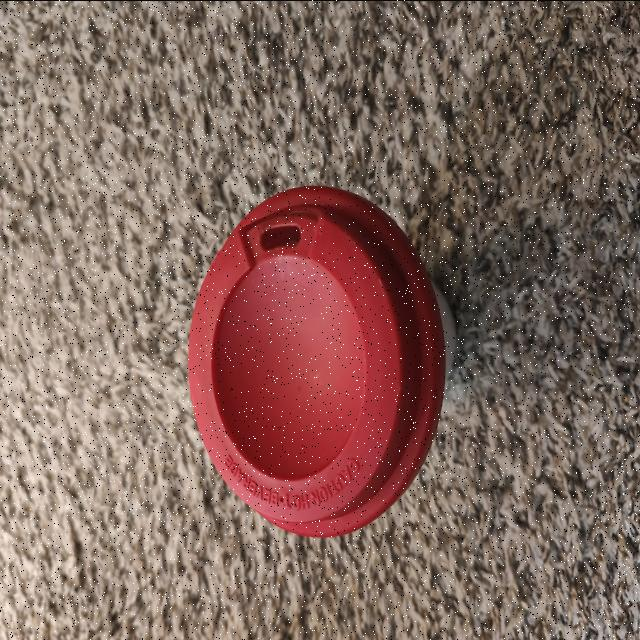mug: (198, 194, 458, 507)
